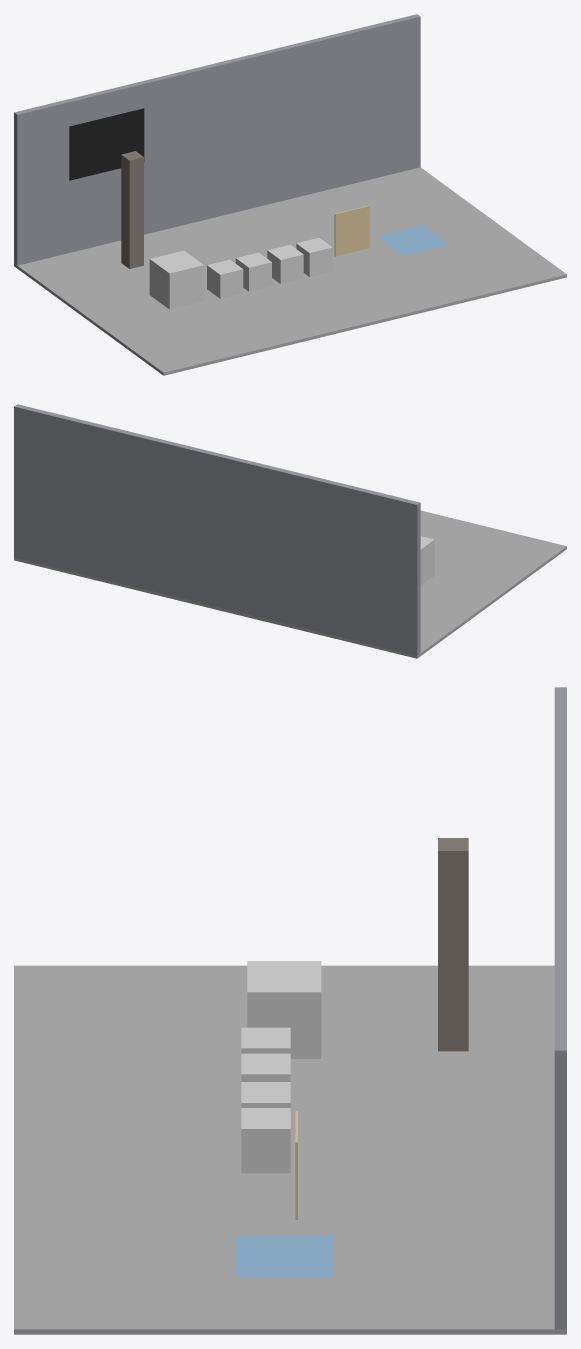
The model's file is shader_hooks_fixture.gltf.
The picture shows the model from 3 angles, top to bottom: view 1: azimuth 30°, elevation 25°; view 2: azimuth 150°, elevation 25°; view 3: azimuth 270°, elevation 25°; orthographic projection. The views are drawn at different scales.
Parts seen in each view (by area): view 1: wall, floor, static, stripes, post, card, dome, key_a, param_a, param_b, key_b; view 2: wall, floor, stripes; view 3: floor, wall, post, stripes, dome, param_b, key_b, key_a, param_a.
Part boxes in pixels (<box>): wall: <box>14,14,420,265</box>; floor: <box>14,167,566,375</box>; static: <box>69,108,144,180</box>; stripes: <box>149,250,204,309</box>; post: <box>121,151,143,268</box>; card: <box>334,205,369,256</box>; dome: <box>377,225,448,255</box>; key_a: <box>207,259,243,298</box>; param_a: <box>267,244,303,283</box>; param_b: <box>296,238,332,276</box>; key_b: <box>235,252,271,291</box>; wall: <box>14,404,420,655</box>; floor: <box>14,510,566,658</box>; stripes: <box>420,536,434,585</box>; floor: <box>14,965,566,1334</box>; wall: <box>554,687,566,1329</box>; post: <box>438,838,468,1051</box>; stripes: <box>247,961,321,1058</box>; dome: <box>235,1235,333,1276</box>; param_b: <box>241,1108,290,1173</box>; key_b: <box>241,1053,290,1081</box>; key_a: <box>241,1027,290,1053</box>; param_a: <box>241,1082,290,1107</box>.
Size of the model in its own units: 14 by 5.1 by 9.
